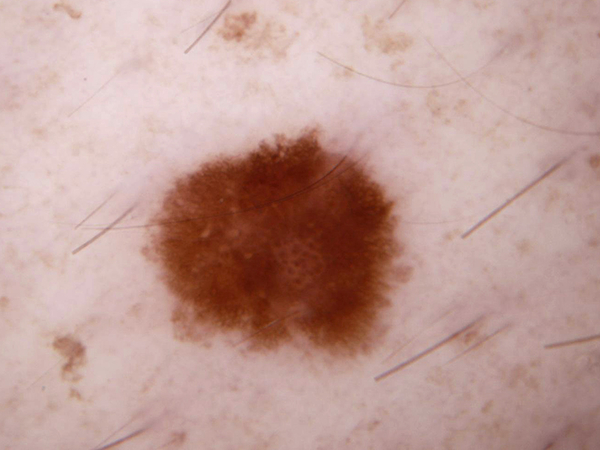Detected Lesion: (147, 126, 410, 362)
